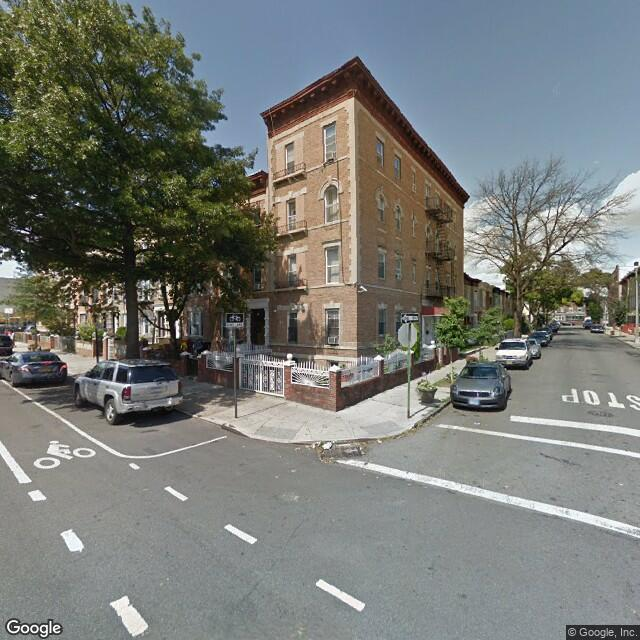litter: (299, 438, 330, 456), (316, 440, 338, 455)
